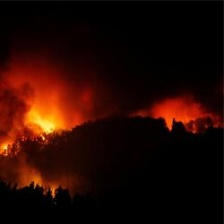fire: (1, 100, 219, 163)
